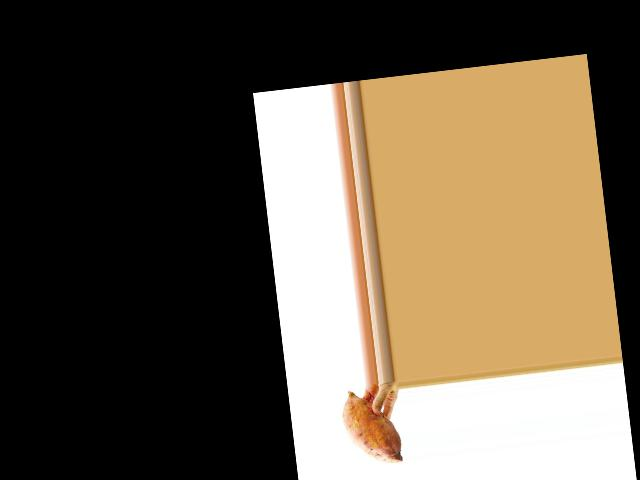sweet_potato: (335, 388, 405, 470)
